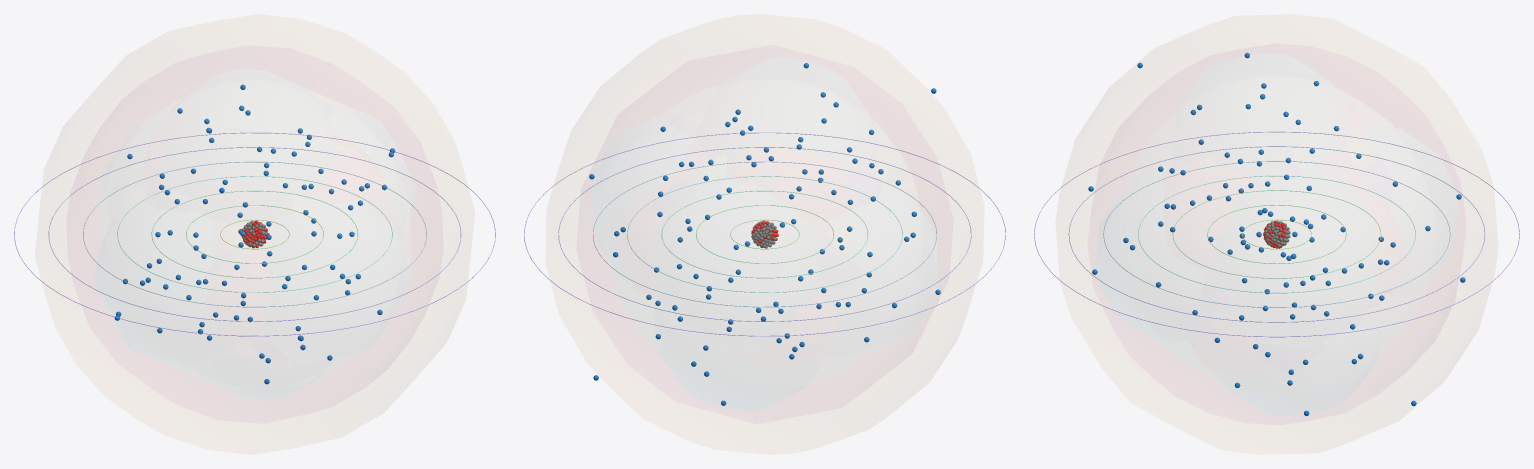
The picture shows the model from 3 angles, left to right: view 1: azimuth 30°, elevation 25°; view 2: azimuth 150°, elevation 25°; view 3: azimuth 270°, elevation 25°; orthographic projection.
Visible parts, largest first — view 1: Nivel_n7, Nivel_n6, Nivel_n5, Nivel_n4, Nivel_n3; view 2: Nivel_n7, Nivel_n6, Nivel_n5, Nivel_n4, Nivel_n3; view 3: Nivel_n7, Nivel_n6, Nivel_n5, Nivel_n4, Nivel_n3.
Boxes of the visible parts, x1,y1,x2,y2 form: Nivel_n7: [14, 132, 495, 336]; Nivel_n6: [48, 147, 461, 321]; Nivel_n5: [83, 161, 426, 307]; Nivel_n4: [117, 176, 392, 292]; Nivel_n3: [151, 190, 358, 278]; Nivel_n7: [524, 132, 1005, 336]; Nivel_n6: [558, 147, 971, 321]; Nivel_n5: [593, 161, 936, 307]; Nivel_n4: [627, 176, 902, 292]; Nivel_n3: [661, 190, 868, 278]; Nivel_n7: [1034, 131, 1519, 337]; Nivel_n6: [1068, 146, 1485, 322]; Nivel_n5: [1103, 161, 1450, 307]; Nivel_n4: [1138, 175, 1415, 293]; Nivel_n3: [1172, 190, 1381, 278].
Size of the model in its own units: 2.1 by 1.92 by 2.1.
